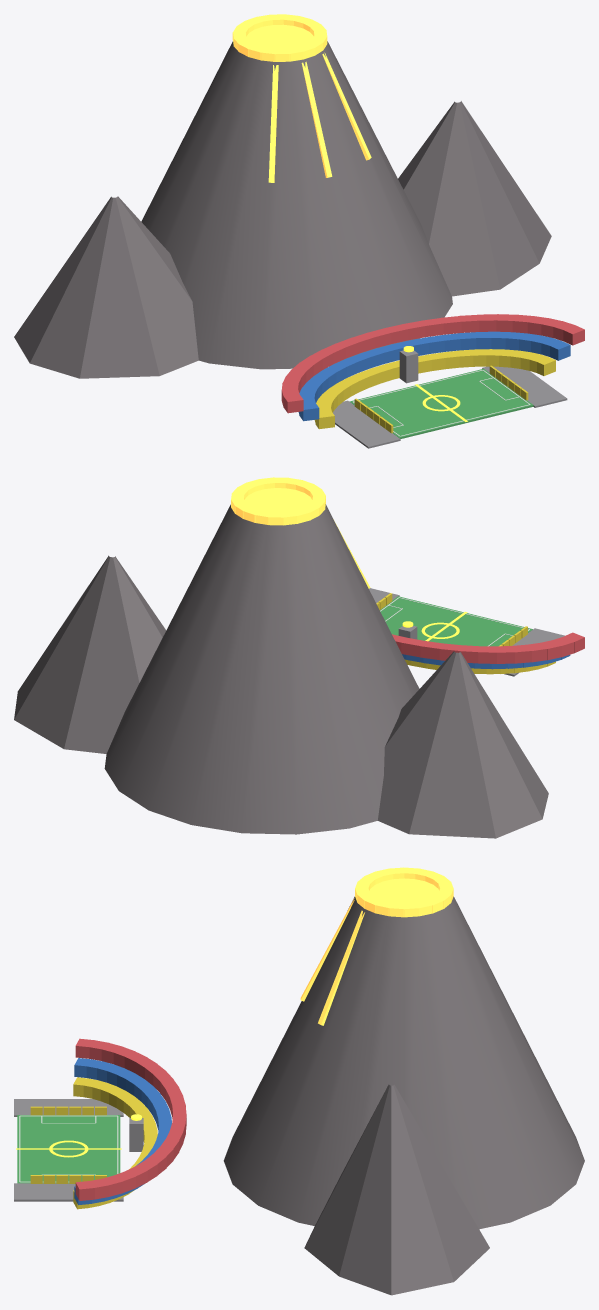
Rendered from SM_Stage_Atahualpa_EC.glb.
The picture shows the model from 3 angles, top to bottom: view 1: azimuth 30°, elevation 25°; view 2: azimuth 150°, elevation 25°; view 3: azimuth 270°, elevation 25°; orthographic projection. The views are drawn at different scales.
Parts seen in each view (by area): view 1: SM_Stage_Atahualpa_EC; view 2: SM_Stage_Atahualpa_EC; view 3: SM_Stage_Atahualpa_EC.
Boxes of the visible parts, x1=… form: SM_Stage_Atahualpa_EC: x1=14, y1=14, x2=584, y2=448; SM_Stage_Atahualpa_EC: x1=14, y1=477, x2=584, y2=838; SM_Stage_Atahualpa_EC: x1=14, y1=867, x2=584, y2=1295.
Size of the model in its own units: 97.1 by 46.6 by 88.5.
